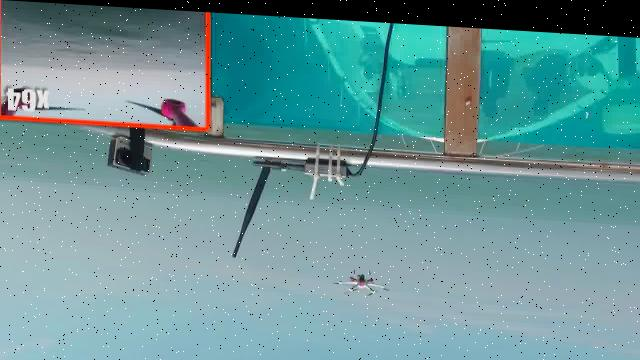drone: (334, 263, 394, 303)
